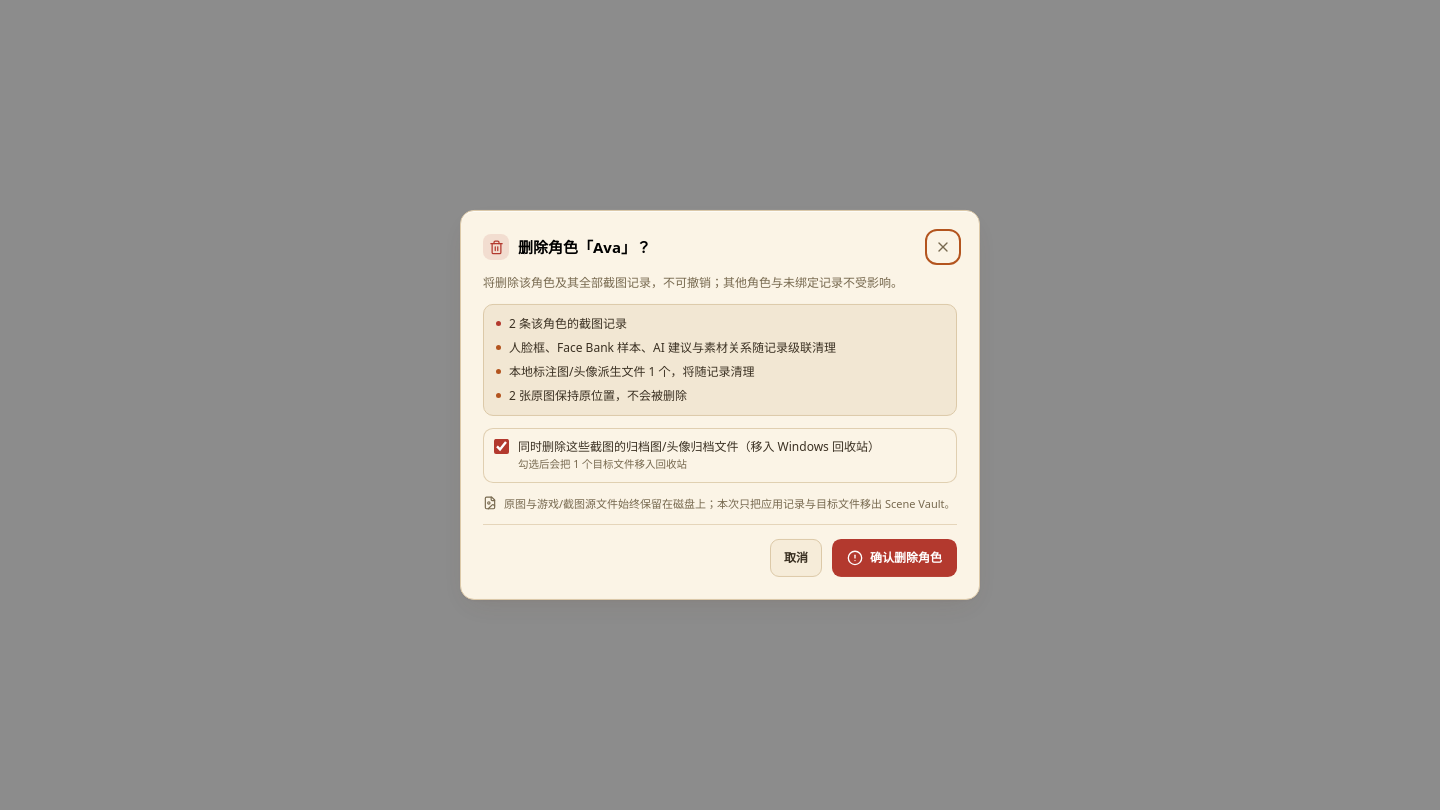
Test case: CharacterDeleteDialog › keeps the dialog open and lists failures on a partial delete
Click the button "确认删除角色" at x=894, y=558, box [832, 539, 957, 577]
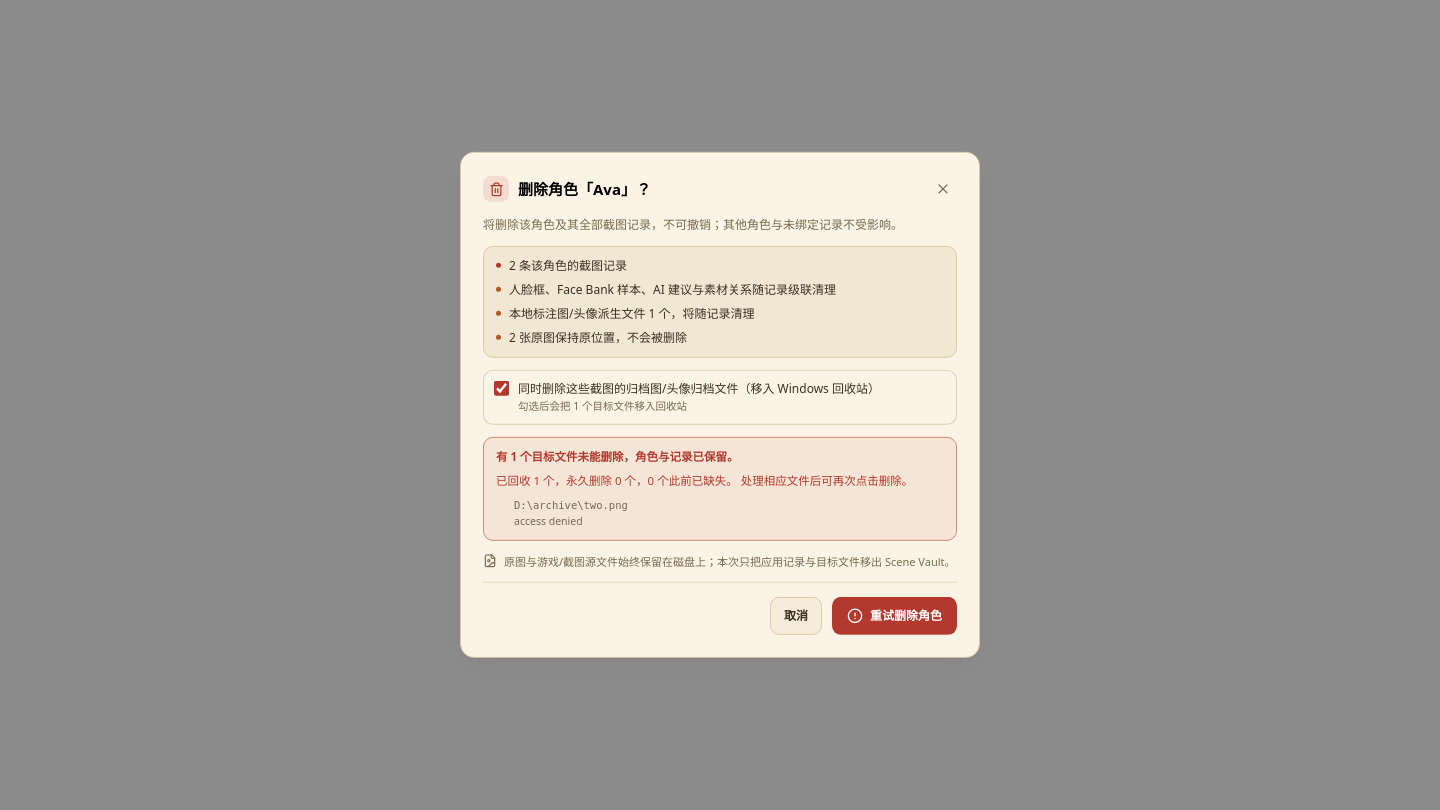
Check: the dialog is shown, box [460, 152, 980, 658]
Check: the text "未能删除" is shown, box [496, 448, 739, 463]
Check: the text "access denied" is shown, box [514, 514, 583, 528]
